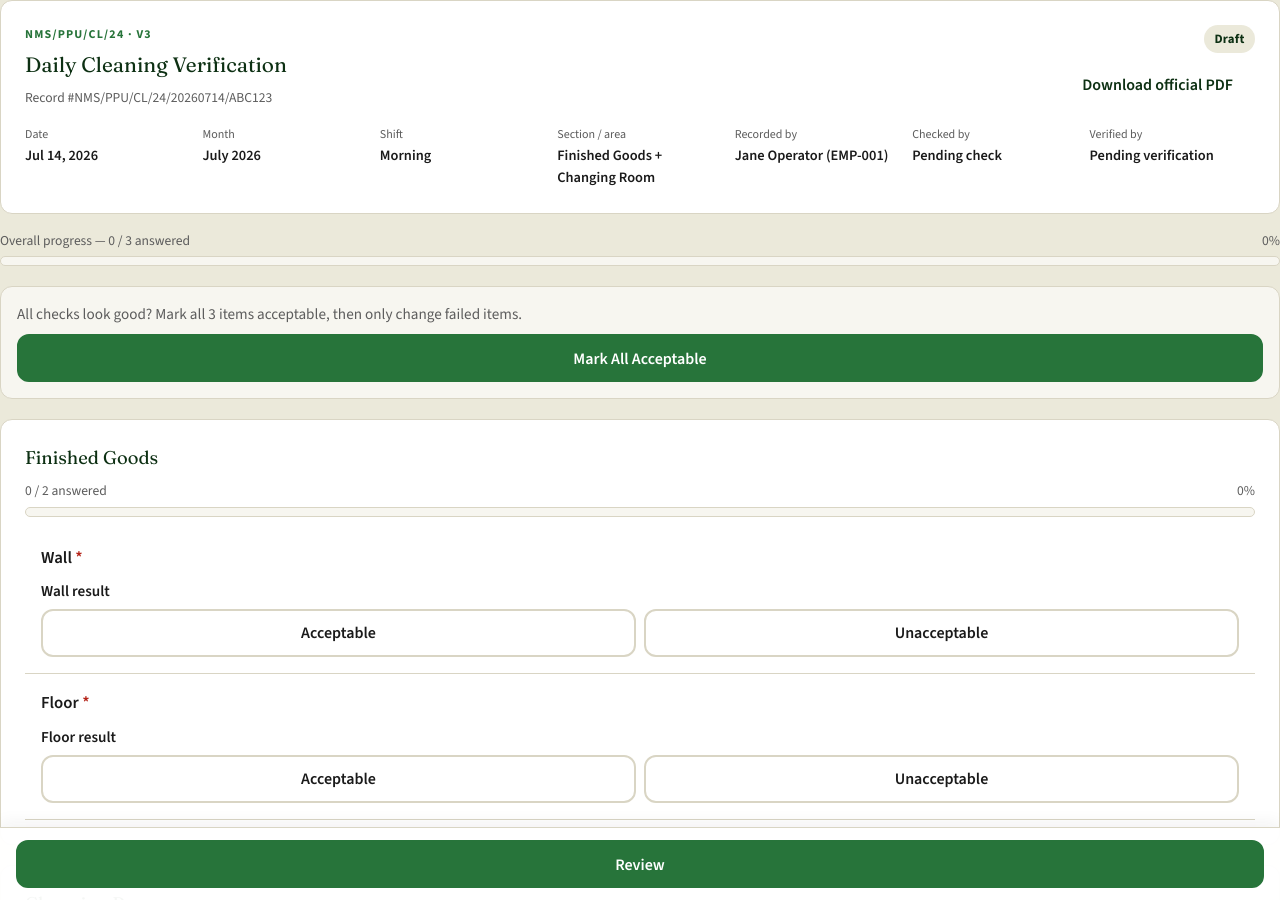
Test case: InspectionRecordWorkspace — three-click happy path › creates today's draft, marks all acceptable, reviews and submits, then shows the success screen
Expected: the heading "Daily Cleaning Verification" is shown, [25,49,287,82]
Expected: the text "Record #NMS/PPU/CL/24/20260714/ABC123" is shown, [25,87,287,109]
// 1st click — Mark All Acceptable.
Step 1. Click the button with aria-label "mark all 3 items acceptable" → {"x": 640, "y": 358}, box [17,334,1263,382]
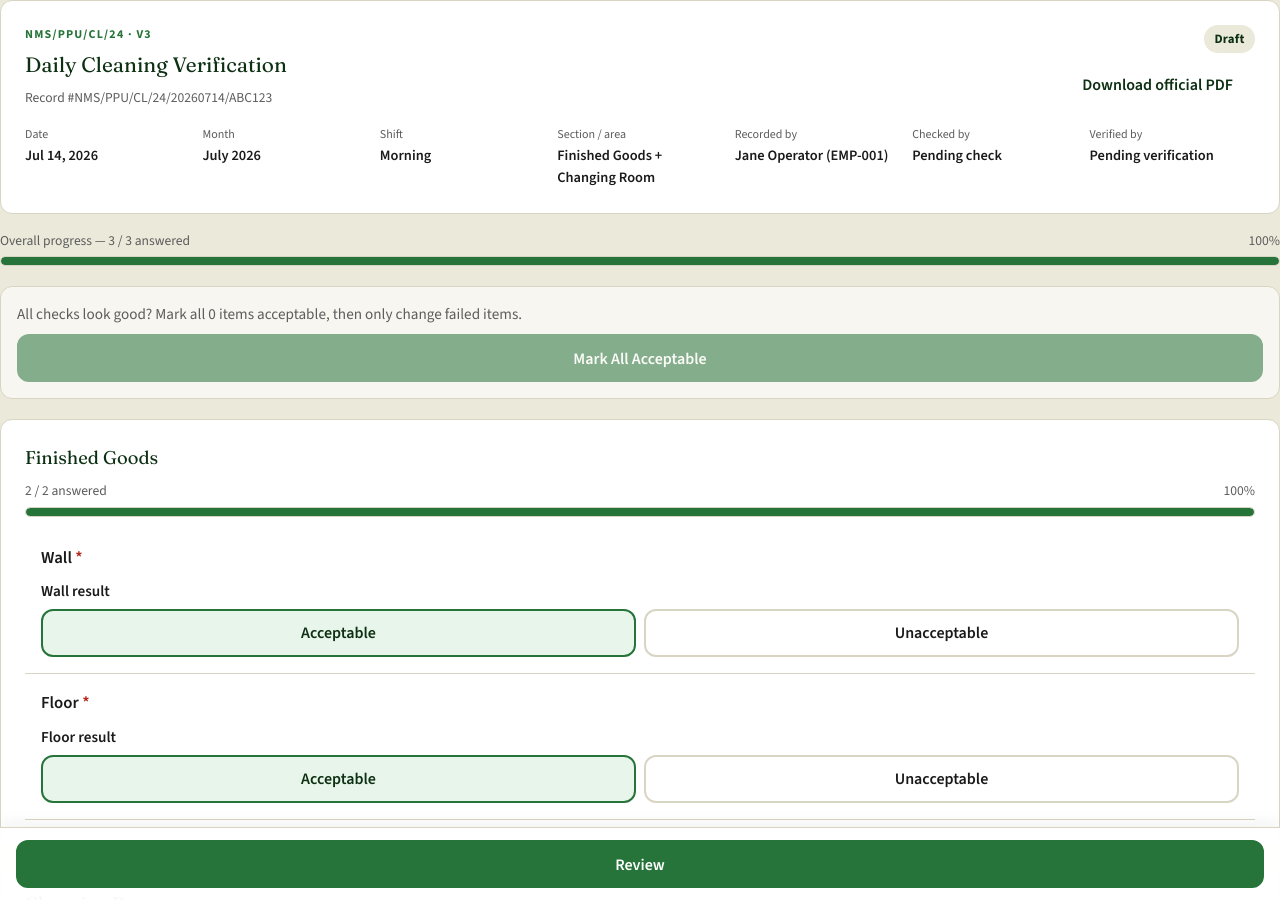
// 2nd click — Review.
Step 2. Click the button "Review" → {"x": 640, "y": 864}, box [16,840,1264,888]
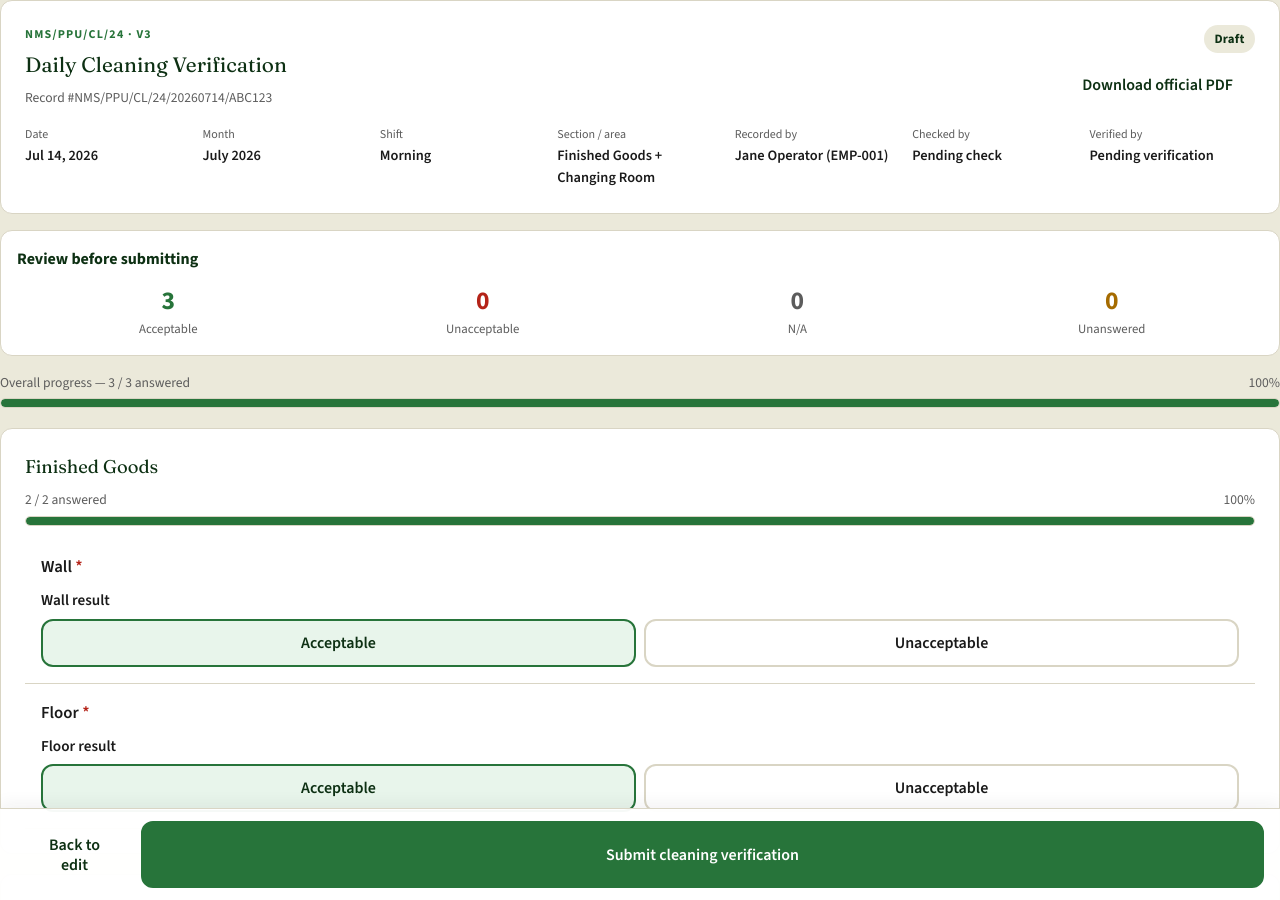
Expected: the text "Review before submitting" is shown, [17,248,198,269]
// 3rd click — Submit.
Step 3. Click the button "Submit cleaning verification" → {"x": 702, "y": 855}, box [141,822,1264,888]
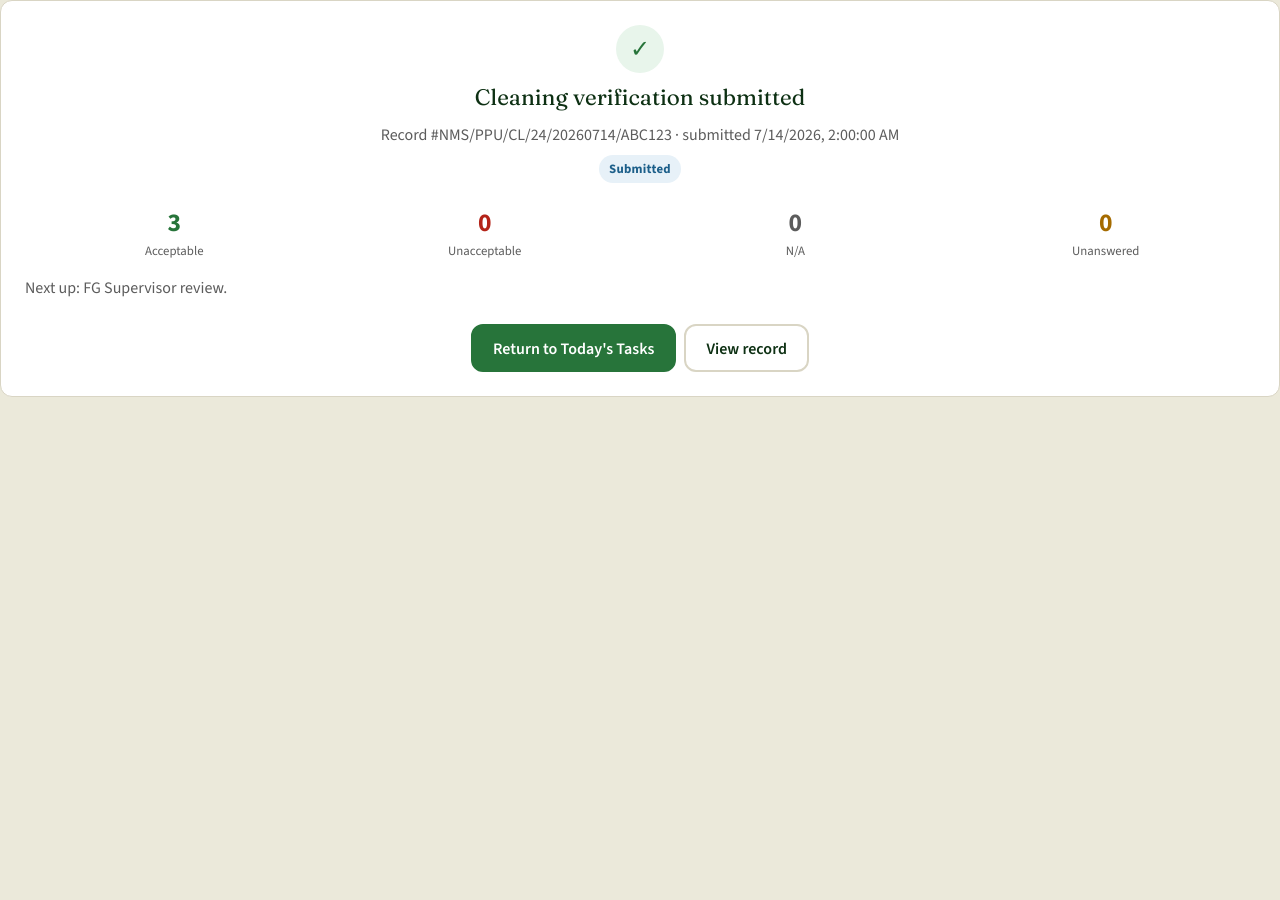
Expected: the heading "Cleaning verification submitted" is shown, [475,81,805,115]
Expected: the text "Next up: FG Supervisor review." is shown, [25,277,227,298]
